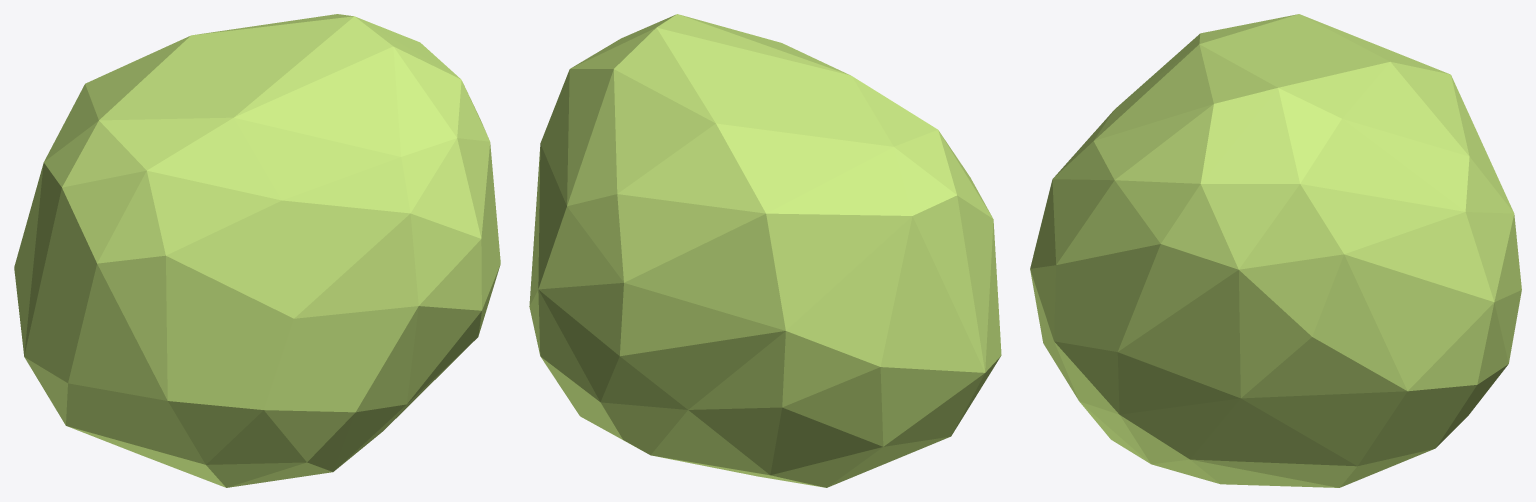
File: Bush_a_m_07.fbx
3 views of the same model, side by side, from view 1: azimuth 30°, elevation 25°; view 2: azimuth 150°, elevation 25°; view 3: azimuth 270°, elevation 25° (orthographic). The views are drawn at different scales.
Parts seen in each view (by area): view 1: Bush_a_m_07; view 2: Bush_a_m_07; view 3: Bush_a_m_07.
Part boxes in pixels (left/top/right/bottom): Bush_a_m_07: left=14, top=14, right=500, bottom=487; Bush_a_m_07: left=529, top=14, right=1001, bottom=487; Bush_a_m_07: left=1030, top=14, right=1521, bottom=487.
Size of the model in its own units: 159 by 142 by 144.
